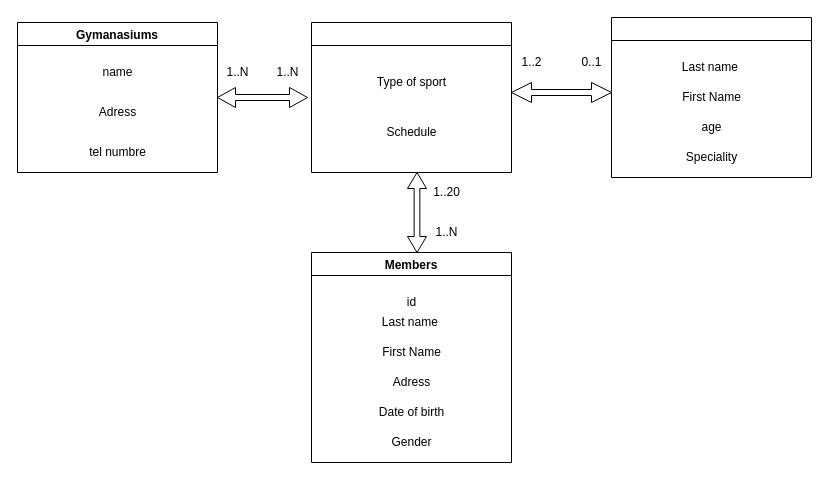
Some shapes in this 829 by 480 pixel diagram are drawn without their labels. Here are the shapes that lost their labels. From the top down, the box of each, then its label:
(310, 22, 512, 172): session
(610, 16, 812, 178): Coachs
